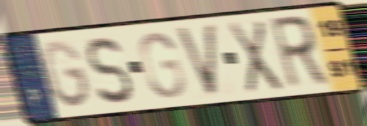G: (41, 37, 95, 112), (137, 30, 187, 101)
R: (266, 13, 332, 93)
S: (85, 34, 135, 107)
V: (173, 21, 220, 100)
X: (225, 17, 285, 96)
